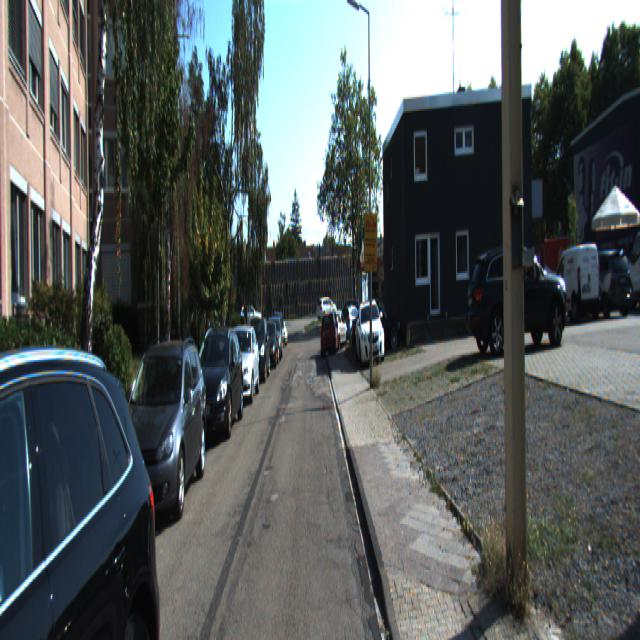Car: (0, 324, 186, 638), (107, 326, 210, 539), (465, 227, 571, 353), (183, 316, 244, 442), (549, 240, 603, 322), (574, 245, 634, 318), (222, 320, 260, 404), (351, 296, 401, 354), (354, 295, 384, 364), (242, 315, 270, 385), (624, 222, 640, 309), (320, 309, 338, 360), (316, 295, 338, 323)
